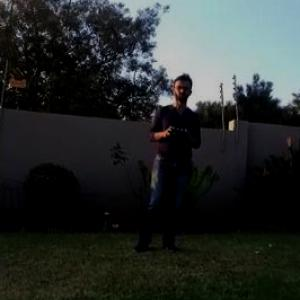follow: (125, 66, 203, 255)
